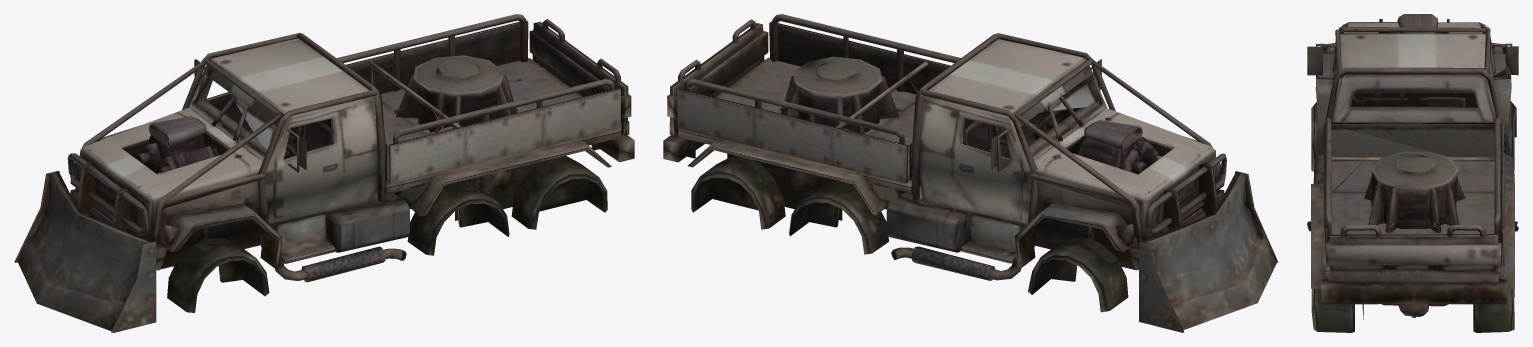
File: car_l_body.glb
The picture shows the model from 3 angles, left to right: view 1: azimuth 30°, elevation 25°; view 2: azimuth 150°, elevation 25°; view 3: azimuth 270°, elevation 25°; orthographic projection. The views are drawn at different scales.
Parts seen in each view (by area): view 1: geometry_0; view 2: geometry_0; view 3: geometry_0.
Boxes of the visible parts, x1=… form: geometry_0: x1=14, y1=14, x2=634, y2=332; geometry_0: x1=663, y1=14, x2=1278, y2=332; geometry_0: x1=1307, y1=14, x2=1518, y2=332.
Bounding box in the file's own units: 0.9541 × 0.2866 × 0.3325.
1 material, 1 textured.
